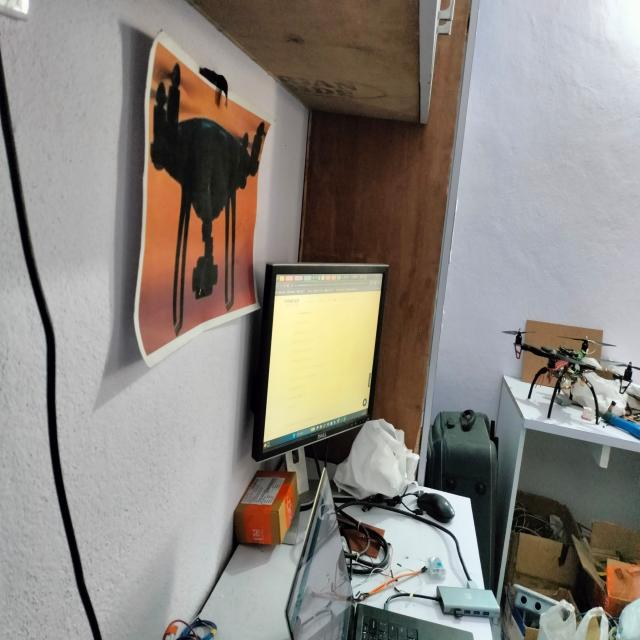drone: (143, 83, 268, 336)
